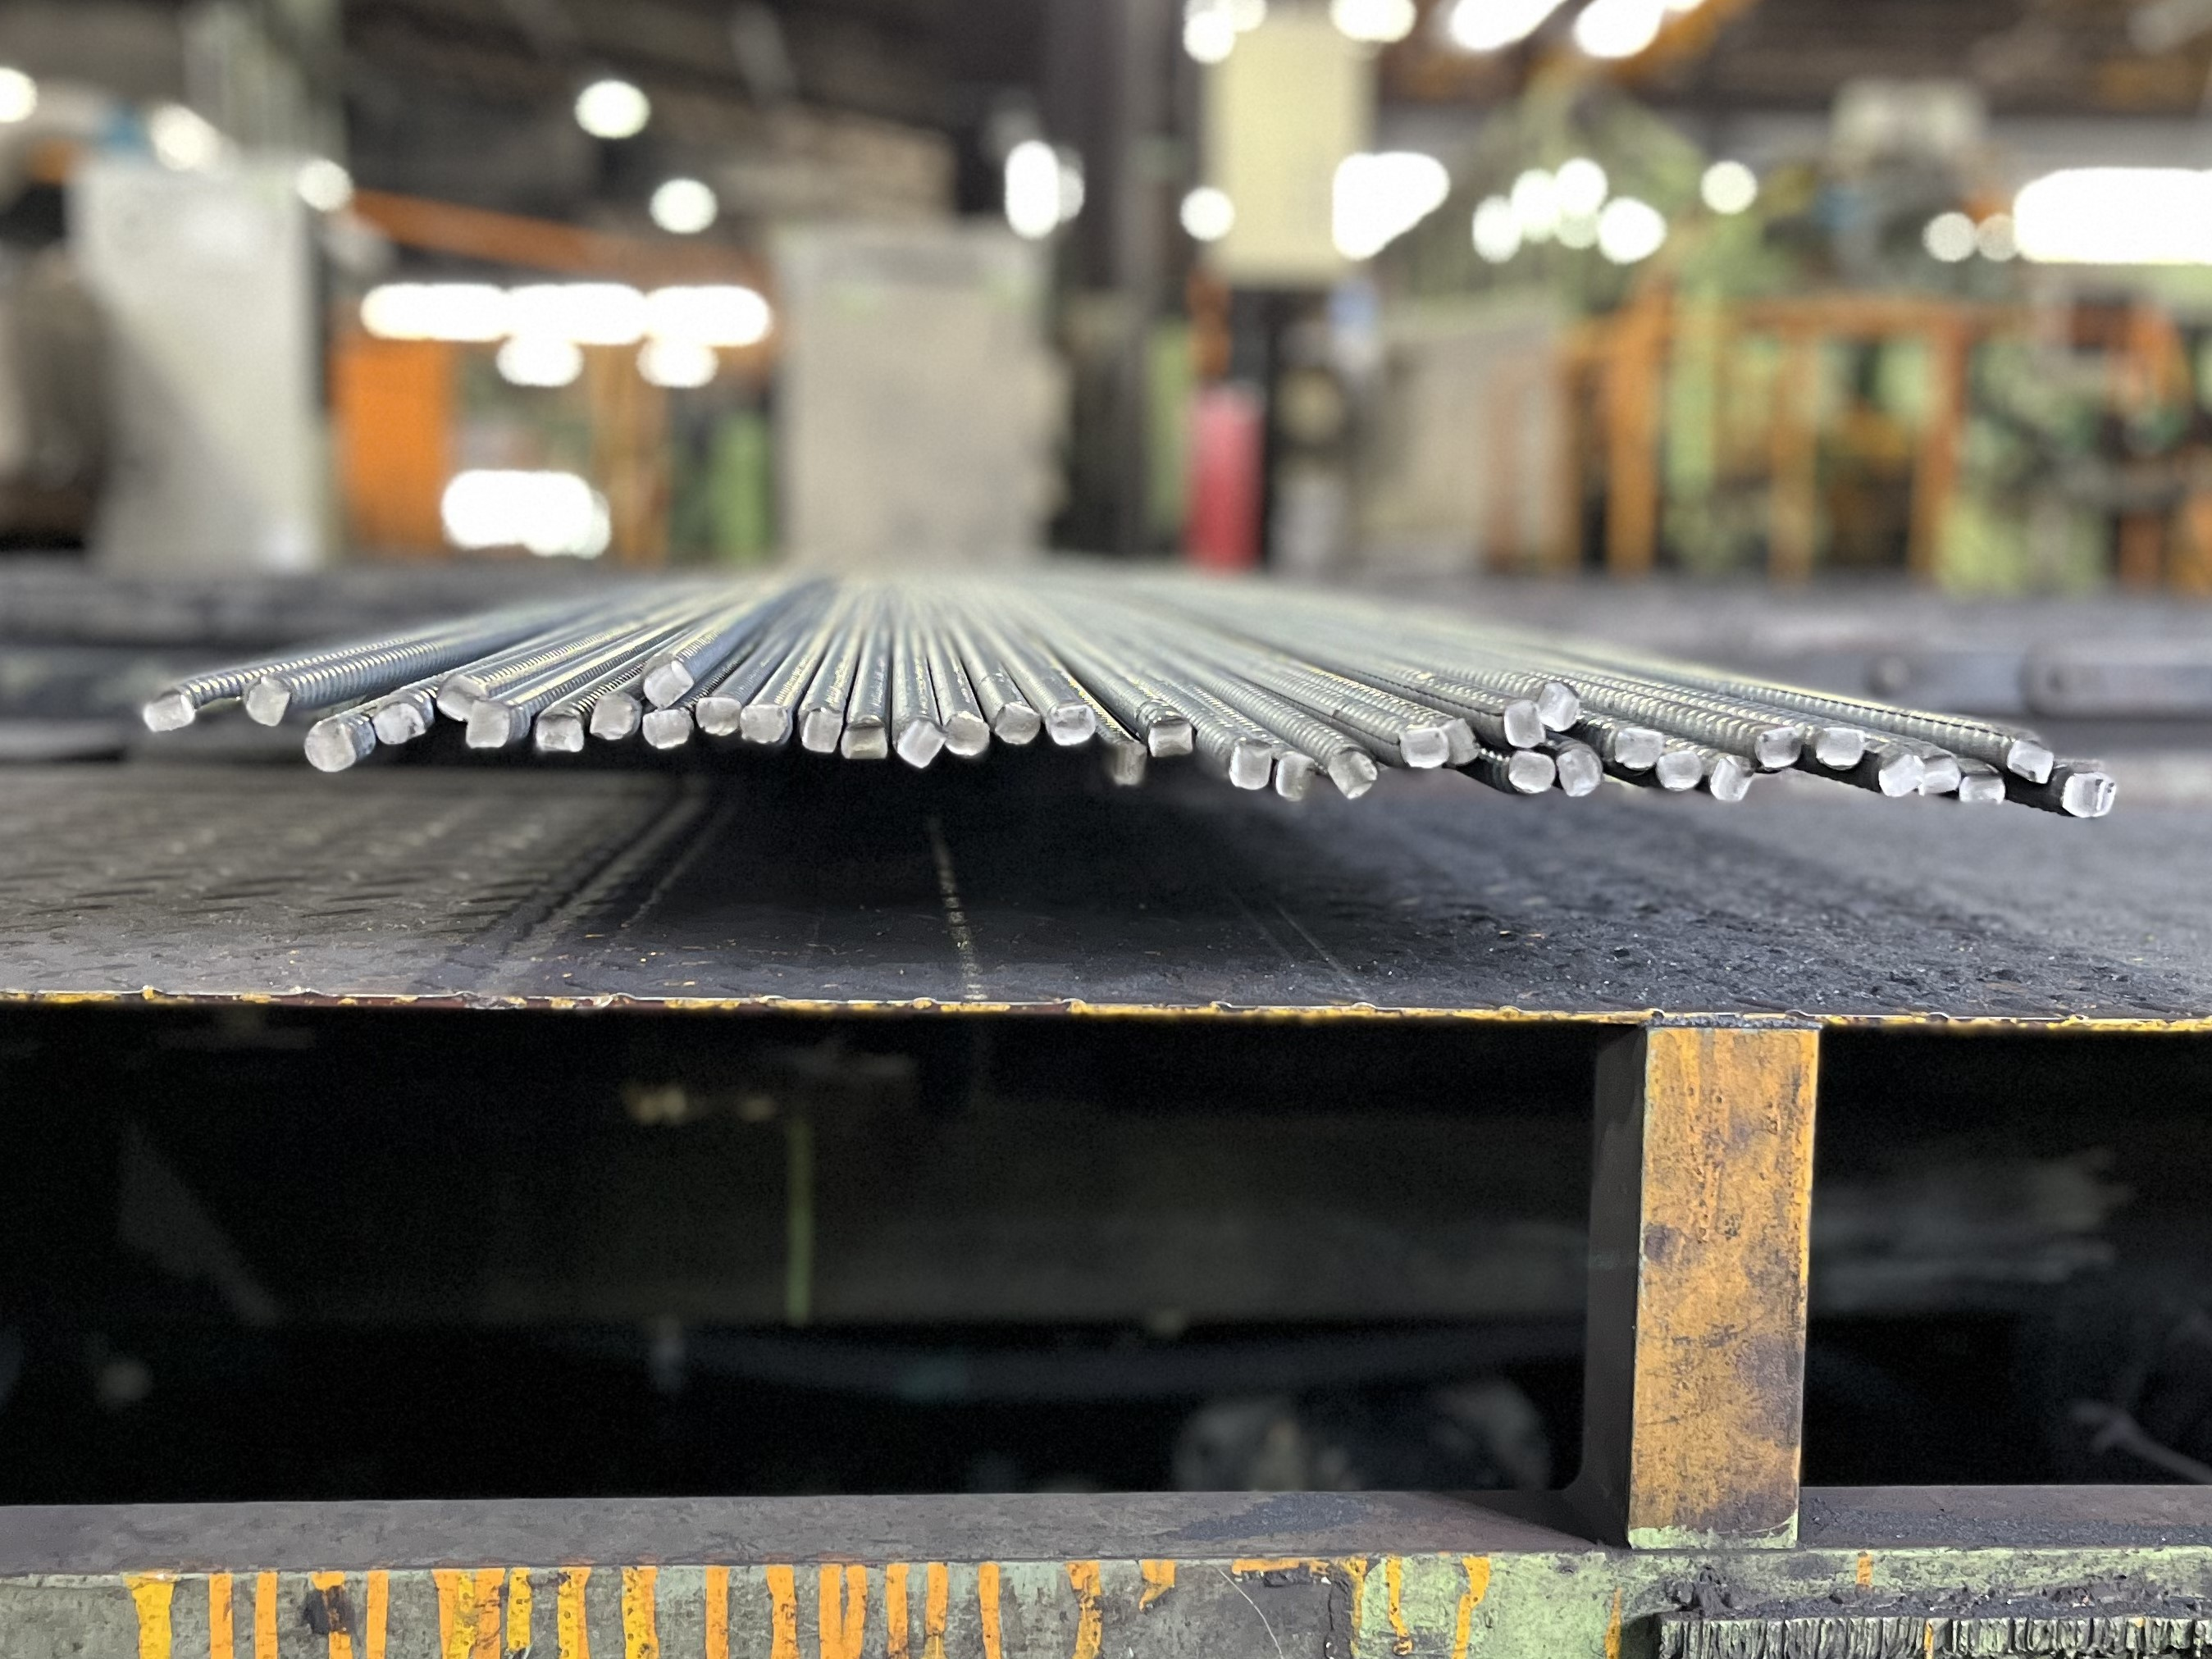rod: (303, 716, 361, 774), (1325, 744, 1381, 800), (641, 659, 697, 709), (896, 716, 947, 770), (139, 690, 197, 737), (241, 676, 293, 727), (373, 701, 427, 749), (1225, 739, 1274, 793), (1394, 723, 1450, 770), (465, 697, 514, 749), (589, 692, 638, 744), (1536, 680, 1583, 734), (1708, 751, 1755, 805), (1612, 727, 1668, 772), (737, 704, 795, 748), (436, 673, 486, 721), (990, 701, 1042, 748), (1504, 749, 1557, 796), (1557, 748, 1604, 800), (2005, 739, 2057, 786), (1813, 725, 1867, 770), (1048, 701, 1096, 749), (941, 711, 992, 758), (2059, 770, 2106, 821), (640, 708, 694, 751), (1877, 751, 1928, 796), (1503, 697, 1546, 749), (1656, 749, 1705, 795), (1754, 725, 1802, 770), (533, 711, 586, 753), (798, 708, 844, 755), (694, 695, 743, 739), (1147, 716, 1196, 760), (840, 718, 891, 760), (1107, 739, 1149, 789), (1442, 718, 1483, 767), (1916, 753, 1963, 795), (1274, 751, 1314, 800), (1958, 769, 2006, 805)
